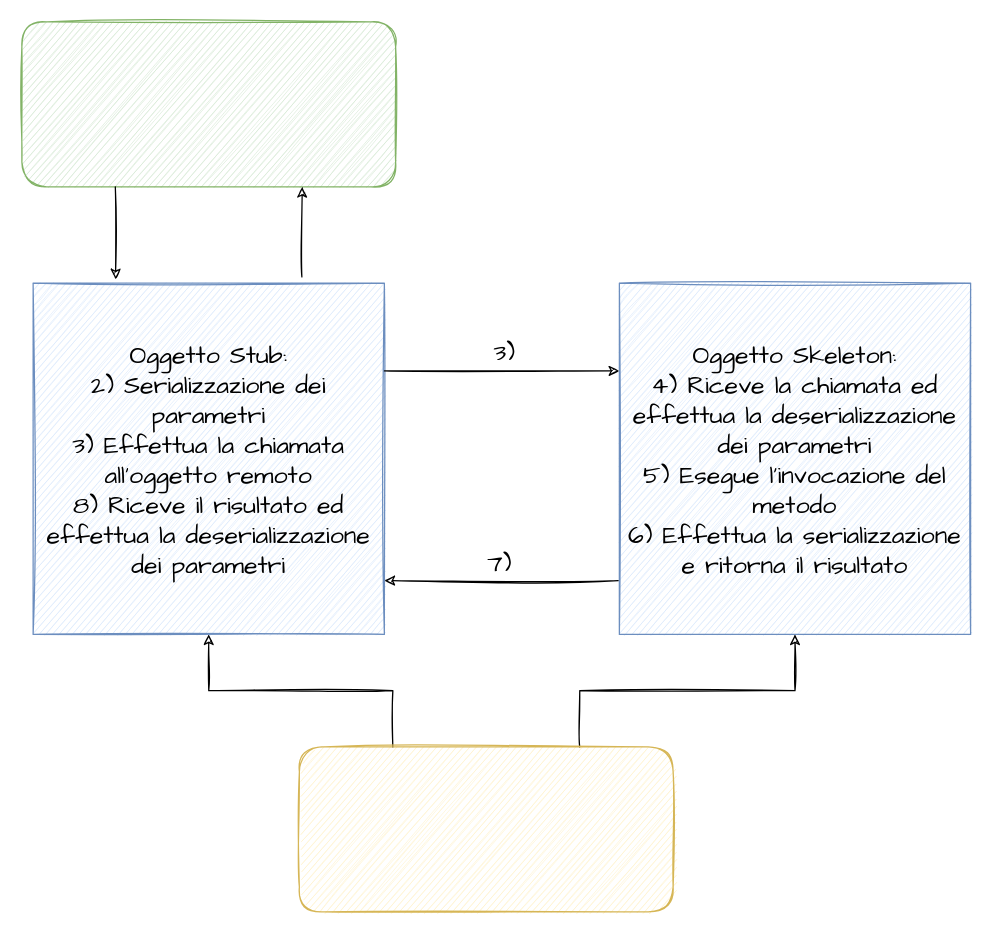
Image size: 993x934. Some labels were removed from this diagram. Each missing label, with the box of its shape:
Cliente: 1) Chiama il metodo sullo stub 9) Riceve il risultato dallo stub: (21, 21, 396, 187)
Interfaccia: Dichiarazione dei metodi: (298, 746, 673, 912)
